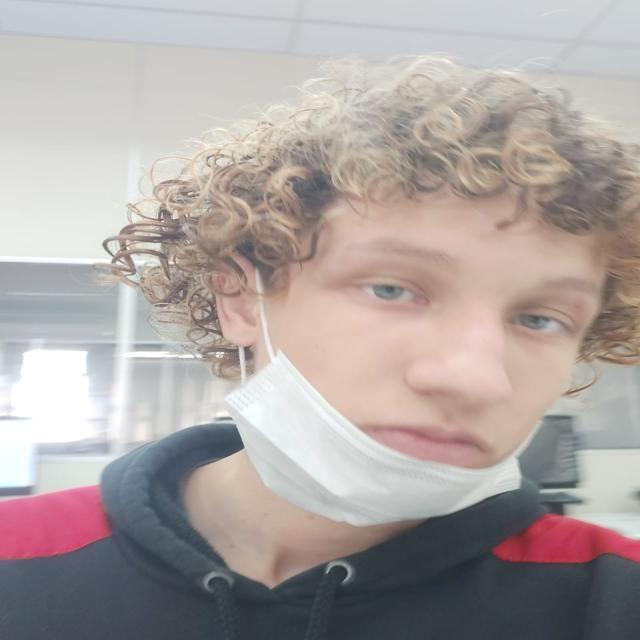hairnet: (268, 197, 591, 510)
